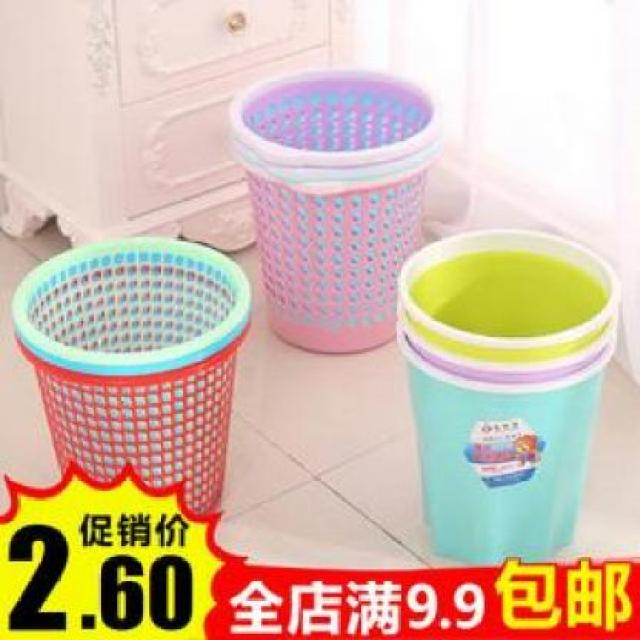dustbin: (393, 223, 624, 565), (8, 232, 257, 532), (225, 61, 449, 357)
